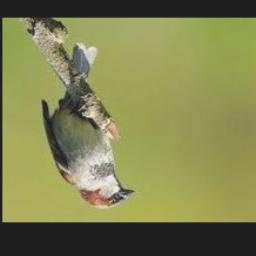Sparrow: (40, 43, 134, 209)
